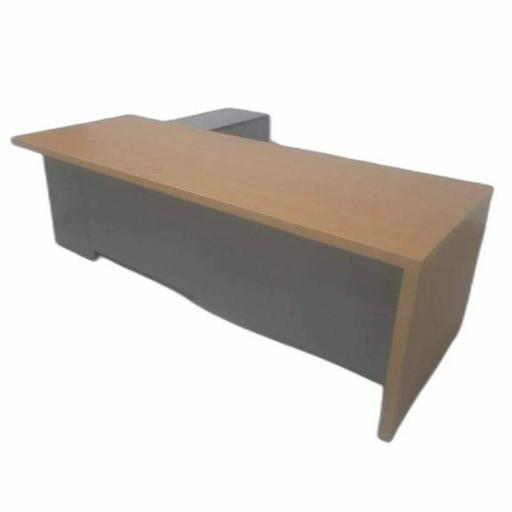table: (8, 112, 492, 451)
